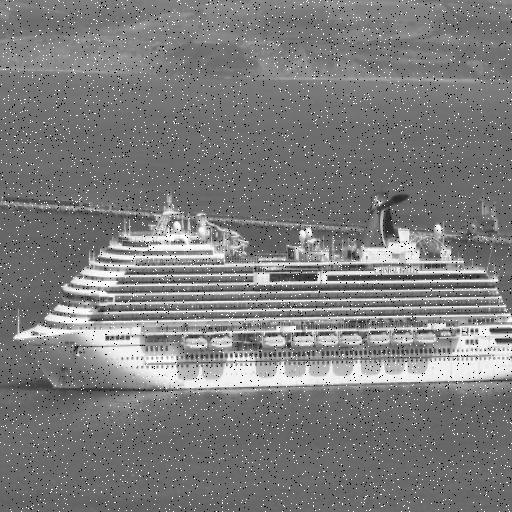cruises: (11, 183, 512, 403)
